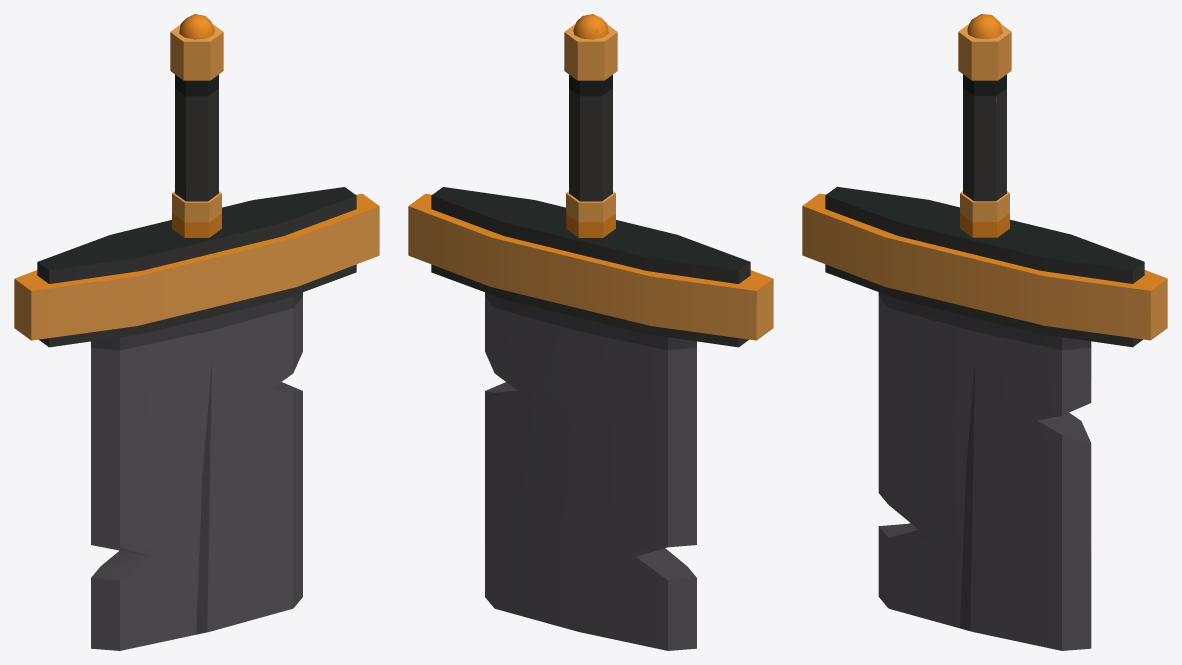
Rendered from unwrapped_sword1.fbx.
The picture shows the model from 3 angles, left to right: view 1: azimuth 30°, elevation 25°; view 2: azimuth 150°, elevation 25°; view 3: azimuth 330°, elevation 25°; orthographic projection.
Visible parts, largest first — view 1: Cube.003; view 2: Cube.003; view 3: Cube.003.
Boxes of the visible parts, x1,y1,x2,y2 form: Cube.003: (14, 14, 379, 650); Cube.003: (408, 14, 773, 650); Cube.003: (802, 14, 1167, 650).
Size of the model in its own units: 910 by 1517 by 181.
